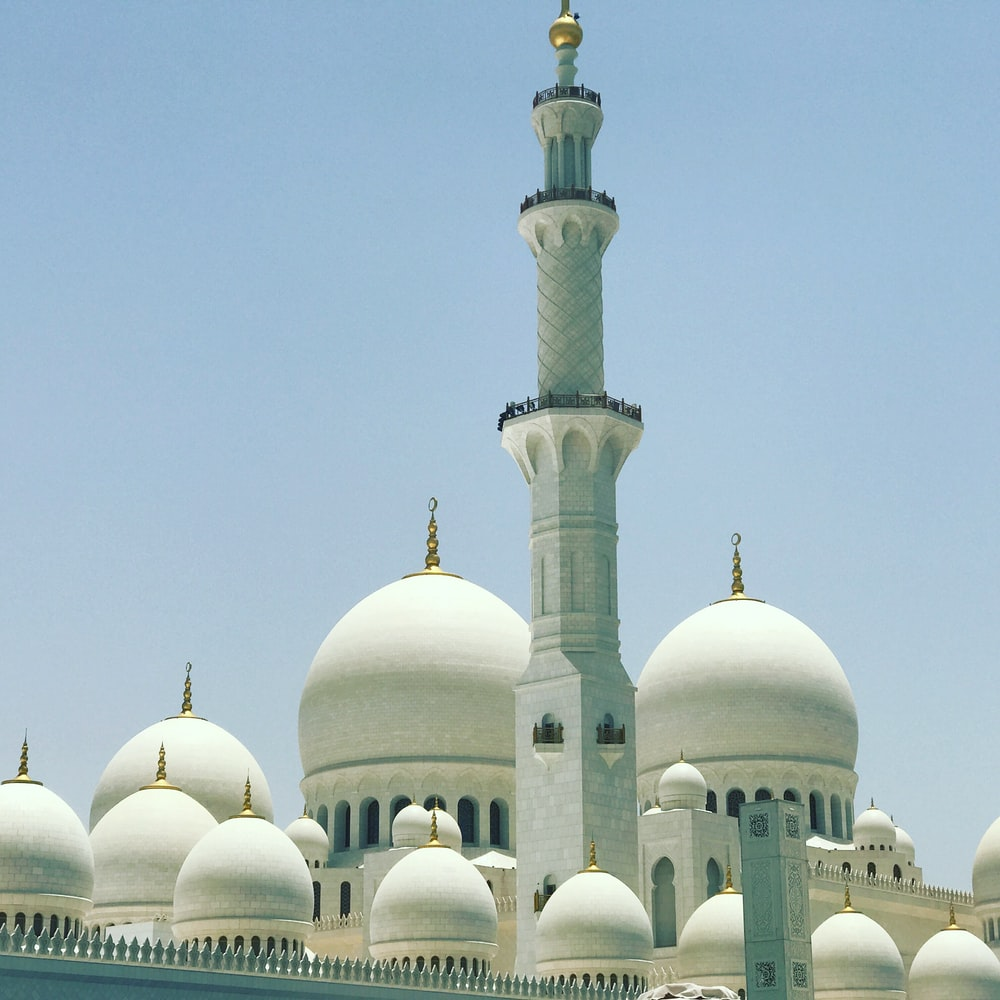Mosque: (20, 5, 990, 987)
